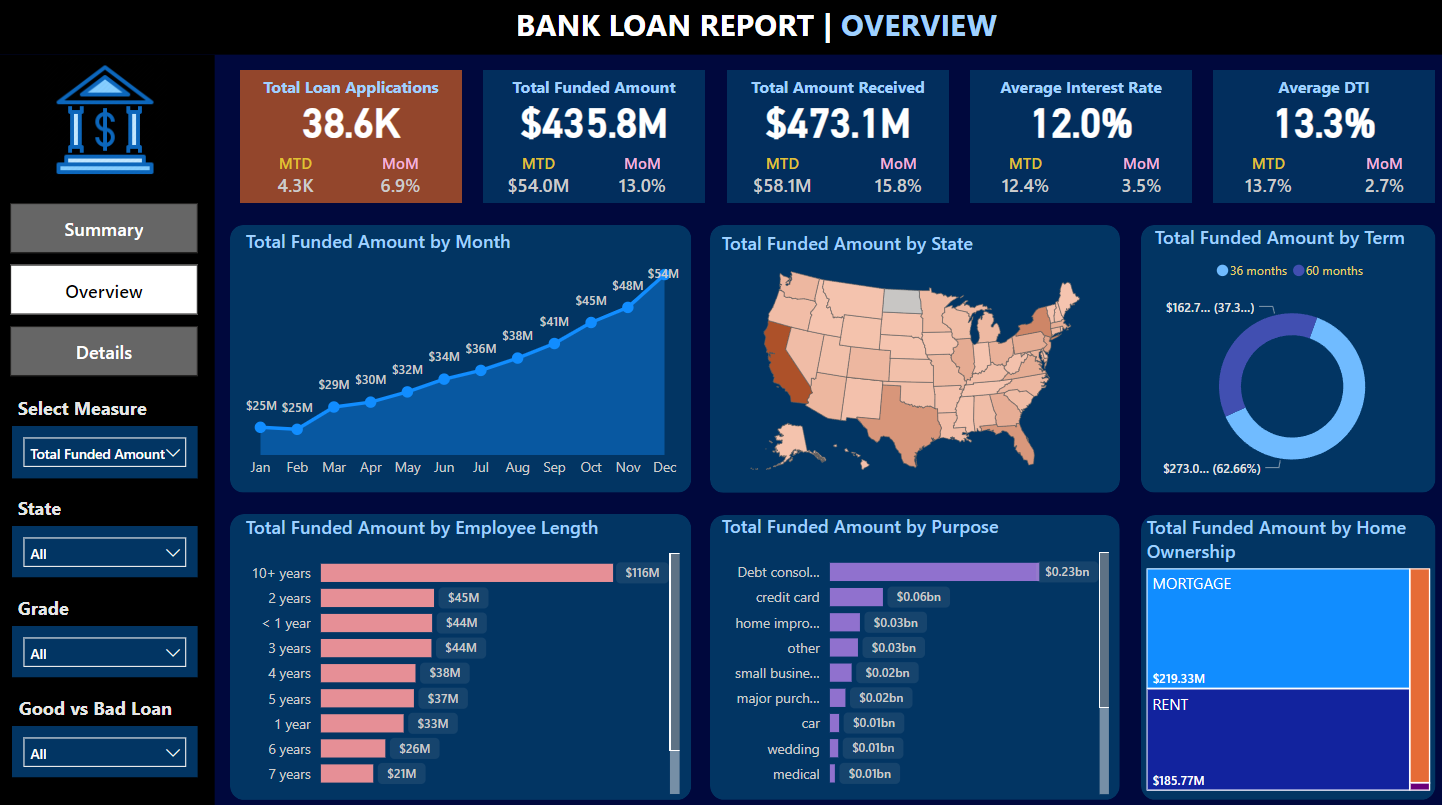

The page's visual inventory and layout, read from the dashboard file:
{"tool":"powerbi","page":{"name":"Overview","canvas":[1280,720],"ordinal":1},"visuals":[{"type":"shape","box":[0,55.3,192,665],"z":0},{"type":"shape","box":[214.2,68.5,194.9,116.8],"z":0,"group":"g1"},{"type":"shape","box":[427.8,68.5,194.9,116.8],"z":0,"group":"g2"},{"type":"shape","box":[641.4,68.5,194.9,116.8],"z":0,"group":"g3"},{"type":"shape","box":[855,68.5,194.9,116.8],"z":0,"group":"g4"},{"type":"shape","box":[1068.6,68.5,194.9,116.8],"z":0,"group":"g5"},{"type":"card","fields":{"Values":["bank_loan_data.Total Loan Applications"]},"box":[214.2,90.5,194.9,43.9],"z":1000,"group":"g1"},{"type":"card","fields":{"Values":["bank_loan_data.Total Funded Amount"]},"box":[427.8,90.5,194.9,43.9],"z":1000,"group":"g2"},{"type":"card","fields":{"Values":["bank_loan_data.Total Amount Received"]},"box":[641.4,90.5,194.9,43.9],"z":1000,"group":"g3"},{"type":"card","fields":{"Values":["bank_loan_data.Average Interest Rate"]},"box":[855,90.5,194.9,43.9],"z":1000,"group":"g4"},{"type":"card","fields":{"Values":["bank_loan_data.Average DTI"]},"box":[1068.6,90.5,194.9,43.9],"z":1000,"group":"g5"},{"type":"shape","box":[205.5,204.6,405,235],"z":1000},{"type":"shape","box":[0,0,1280.2,55.3],"z":2000},{"type":"textbox","box":[214.2,68.5,194.9,31.6],"z":2000,"group":"g1"},{"type":"textbox","box":[427.8,68.5,194.9,31.6],"z":2000,"group":"g2"},{"type":"textbox","box":[641.4,68.5,194.9,31.6],"z":2000,"group":"g3"},{"type":"textbox","box":[855,68.5,194.9,31.6],"z":2000,"group":"g4"},{"type":"textbox","box":[1068.6,68.5,194.9,31.6],"z":2000,"group":"g5"},{"type":"textbox","box":[451.3,4.4,445.2,47.4],"z":3000},{"type":"card","title":"MTD","fields":{"Values":["bank_loan_data.MTD Loan Applications"]},"box":[225.6,141.4,74.6,43.9],"z":3000,"group":"g1"},{"type":"card","title":"MTD","fields":{"Values":["bank_loan_data.MTD Loan Funded Applications"]},"box":[439.2,141.4,74.6,43.9],"z":3000,"group":"g2"},{"type":"card","title":"MTD","fields":{"Values":["bank_loan_data.MTD Total Amount Received"]},"box":[652.8,141.4,74.6,43.9],"z":3000,"group":"g3"},{"type":"card","title":"MTD","fields":{"Values":["bank_loan_data.MTD Average Interest Rate"]},"box":[866.4,141.4,74.6,43.9],"z":3000,"group":"g4"},{"type":"card","title":"MTD","fields":{"Values":["bank_loan_data.MTD Average DTI"]},"box":[1080,141.4,74.6,43.9],"z":3000,"group":"g5"},{"type":"group","id":"g1","title":"Group 1","box":[214.2,68.5,194.9,116.8],"z":4000},{"type":"card","title":"MoM","fields":{"Values":["bank_loan_data.MoM Loan Applications"]},"box":[317.8,141.4,74.6,43.9],"z":4000,"group":"g1"},{"type":"group","id":"g2","title":"Group 1","box":[427.8,68.5,194.9,116.8],"z":5000},{"type":"card","title":"MoM","fields":{"Values":["bank_loan_data.MoM Total Funded Amount"]},"box":[530.3,141.4,74.6,43.9],"z":6000},{"type":"group","id":"g3","title":"Group 2","box":[641.4,68.5,194.9,116.8],"z":7000},{"type":"card","title":"MoM","fields":{"Values":["bank_loan_data.MoM Total Amount Received"]},"box":[754.7,141.4,74.6,43.9],"z":7000,"group":"g3"},{"type":"card","title":"MoM","fields":{"Values":["bank_loan_data.MoM Average Interest Rate"]},"box":[968.3,141.4,74.6,43.9],"z":7000,"group":"g4"},{"type":"card","title":"MoM","fields":{"Values":["bank_loan_data.MoM Average DTI"]},"box":[1181.9,141.4,74.6,43.9],"z":7000,"group":"g5"},{"type":"group","id":"g4","title":"Group 2","box":[855,68.5,194.9,116.8],"z":8000},{"type":"group","id":"g5","title":"Group 2","box":[1068.6,68.5,194.9,116.8],"z":9000},{"type":"slicer","fields":{"Values":["bank_loan_data.address_state"]},"box":[14.5,468.8,163.3,44.8],"z":10000},{"type":"textbox","box":[14.9,613.2,163.6,31.6],"z":11000},{"type":"slicer","fields":{"Values":["bank_loan_data.grade"]},"box":[14.5,556.6,163.3,44.8],"z":12000},{"type":"textbox","box":[14.5,525,79,31.6],"z":13000},{"type":"textbox","box":[14.5,437.2,88.7,31.6],"z":14000},{"type":"slicer","fields":{"Values":["bank_loan_data.Good vs Bad Loans"]},"box":[14.5,644.4,163.3,44.8],"z":15000},{"type":"areaChart","fields":{"Y2":["bank_loan_data.Total Funded Amount"],"Category":["Date Table.Month"]},"box":[214.2,208.1,390.7,227.4],"z":16000},{"type":"slicer","fields":{"Values":["Select Measure.Select Measure"]},"box":[14.5,381.1,163.3,45.7],"z":17000},{"type":"textbox","box":[14.5,349.5,138.7,31.6],"z":18000},{"type":"shape","box":[626.9,204.6,360,235.3],"z":19000},{"type":"shapeMap","fields":{"Value":["bank_loan_data.Total Funded Amount"],"Category":["bank_loan_data.address_state"]},"box":[631.9,209.7,349.8,224.2],"z":20000},{"type":"shape","box":[1005.2,204.3,258.5,235],"z":21000},{"type":"donutChart","fields":{"Y":["bank_loan_data.Total Funded Amount"],"Category":["bank_loan_data.term"]},"box":[1012.4,204.3,251.3,235],"z":22000},{"type":"shape","box":[205.2,458.3,405,251.3],"z":23000},{"type":"barChart","fields":{"Y":["bank_loan_data.Total Funded Amount"],"Category":["bank_loan_data.emp_length"]},"box":[214.2,459.2,390.5,250.4],"z":24000},{"type":"shape","box":[627.3,459.2,359.8,250.4],"z":25000},{"type":"barChart","fields":{"Y":["bank_loan_data.Total Funded Amount"],"Category":["bank_loan_data.purpose"]},"box":[631.9,458.3,349.8,251.3],"z":26000},{"type":"shape","box":[1005.2,459.2,258.5,250.4],"z":27000},{"type":"treemap","fields":{"Values":["bank_loan_data.Total Funded Amount"],"Group":["bank_loan_data.home_ownership"]},"box":[1005.2,459.2,258.5,246.8],"z":28000},{"type":"pageNavigator","box":[12.7,185.3,165.4,152.8],"z":28001},{"type":"image","box":[34.4,52.4,123.8,119.3],"z":28002}]}

Visuals, with their boxes in screenshot pixels (x1, y1, x2, y2), scaled from the page's 1280x720 canvas onto the 1442x805 screenshot:
shape: Rect(0, 62, 216, 804)
shape: Rect(241, 77, 461, 207)
shape: Rect(482, 77, 702, 207)
shape: Rect(723, 77, 942, 207)
shape: Rect(963, 77, 1183, 207)
shape: Rect(1204, 77, 1423, 207)
card - bank_loan_data.Total Loan Applications: Rect(241, 101, 461, 150)
card - bank_loan_data.Total Funded Amount: Rect(482, 101, 702, 150)
card - bank_loan_data.Total Amount Received: Rect(723, 101, 942, 150)
card - bank_loan_data.Average Interest Rate: Rect(963, 101, 1183, 150)
card - bank_loan_data.Average DTI: Rect(1204, 101, 1423, 150)
shape: Rect(232, 229, 688, 491)
shape: Rect(0, 0, 1441, 62)
textbox: Rect(241, 77, 461, 112)
textbox: Rect(482, 77, 702, 112)
textbox: Rect(723, 77, 942, 112)
textbox: Rect(963, 77, 1183, 112)
textbox: Rect(1204, 77, 1423, 112)
textbox: Rect(508, 5, 1010, 58)
"MTD" card: Rect(254, 158, 338, 207)
"MTD" card: Rect(495, 158, 579, 207)
"MTD" card: Rect(735, 158, 819, 207)
"MTD" card: Rect(976, 158, 1060, 207)
"MTD" card: Rect(1217, 158, 1301, 207)
"Group 1" group: Rect(241, 77, 461, 207)
"MoM" card: Rect(358, 158, 442, 207)
"Group 1" group: Rect(482, 77, 702, 207)
"MoM" card: Rect(597, 158, 681, 207)
"Group 2" group: Rect(723, 77, 942, 207)
"MoM" card: Rect(850, 158, 934, 207)
"MoM" card: Rect(1091, 158, 1175, 207)
"MoM" card: Rect(1331, 158, 1416, 207)
"Group 2" group: Rect(963, 77, 1183, 207)
"Group 2" group: Rect(1204, 77, 1423, 207)
slicer - bank_loan_data.address_state: Rect(16, 524, 200, 574)
textbox: Rect(17, 686, 201, 721)
slicer - bank_loan_data.grade: Rect(16, 622, 200, 672)
textbox: Rect(16, 587, 105, 622)
textbox: Rect(16, 489, 116, 524)
slicer - bank_loan_data.Good vs Bad Loans: Rect(16, 720, 200, 771)
areaChart - bank_loan_data.Total Funded Amount x Date Table.Month: Rect(241, 233, 681, 487)
slicer - Select Measure.Select Measure: Rect(16, 426, 200, 477)
textbox: Rect(16, 391, 173, 426)
shape: Rect(706, 229, 1112, 492)
shapeMap - bank_loan_data.Total Funded Amount x bank_loan_data.address_state: Rect(712, 234, 1106, 485)
shape: Rect(1132, 228, 1424, 491)
donutChart - bank_loan_data.Total Funded Amount x bank_loan_data.term: Rect(1141, 228, 1424, 491)
shape: Rect(231, 512, 687, 793)
barChart - bank_loan_data.Total Funded Amount x bank_loan_data.emp_length: Rect(241, 513, 681, 793)
shape: Rect(707, 513, 1112, 793)
barChart - bank_loan_data.Total Funded Amount x bank_loan_data.purpose: Rect(712, 512, 1106, 793)
shape: Rect(1132, 513, 1424, 793)
treemap - bank_loan_data.Total Funded Amount x bank_loan_data.home_ownership: Rect(1132, 513, 1424, 789)
pageNavigator: Rect(14, 207, 201, 378)
image: Rect(39, 59, 178, 192)
